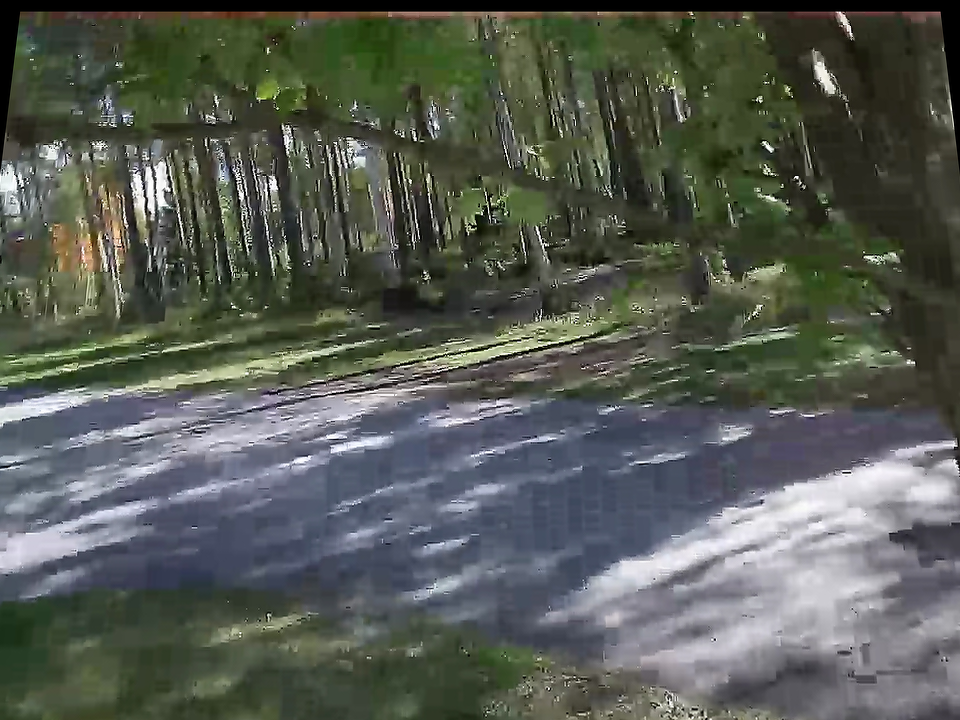branch: (328, 105, 889, 306)
trunk: (758, 30, 957, 338), (843, 265, 958, 450)
